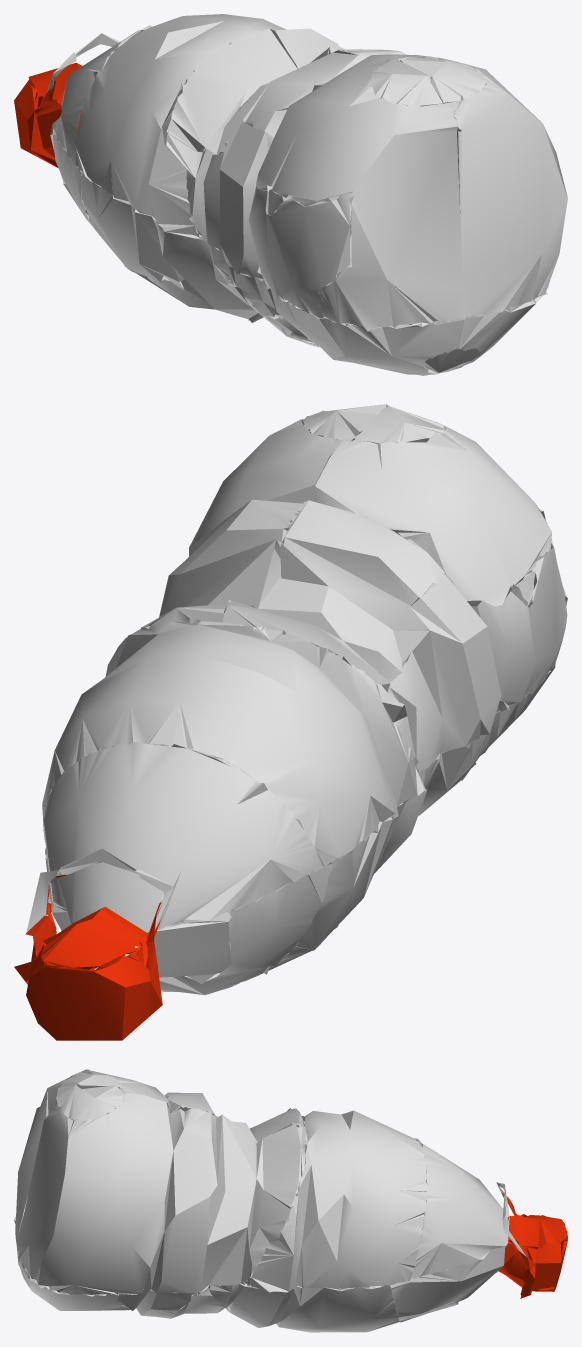
The model's file is bottle.glb.
3 renders of one model, top to bottom at view 1: azimuth 30°, elevation 25°; view 2: azimuth 150°, elevation 25°; view 3: azimuth 270°, elevation 25°, orthographic. The views are drawn at different scales.
Parts seen in each view (by area): view 1: tripo_node_56e11af5-4925-4d1f-b8ec-85cdae79ed07.001; view 2: tripo_node_56e11af5-4925-4d1f-b8ec-85cdae79ed07.001; view 3: tripo_node_56e11af5-4925-4d1f-b8ec-85cdae79ed07.001.
Boxes of the visible parts, x1,y1,x2,y2 form: tripo_node_56e11af5-4925-4d1f-b8ec-85cdae79ed07.001: [14, 14, 567, 375]; tripo_node_56e11af5-4925-4d1f-b8ec-85cdae79ed07.001: [14, 404, 567, 1040]; tripo_node_56e11af5-4925-4d1f-b8ec-85cdae79ed07.001: [14, 1069, 567, 1332].
Size of what is drawn, in the model's own units: 0.4811 by 0.5282 by 1.06.
